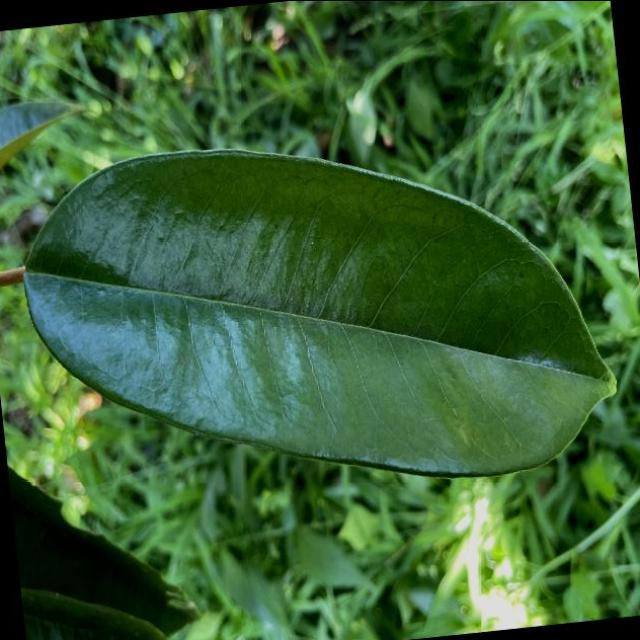No Disease: (2, 97, 630, 531)
